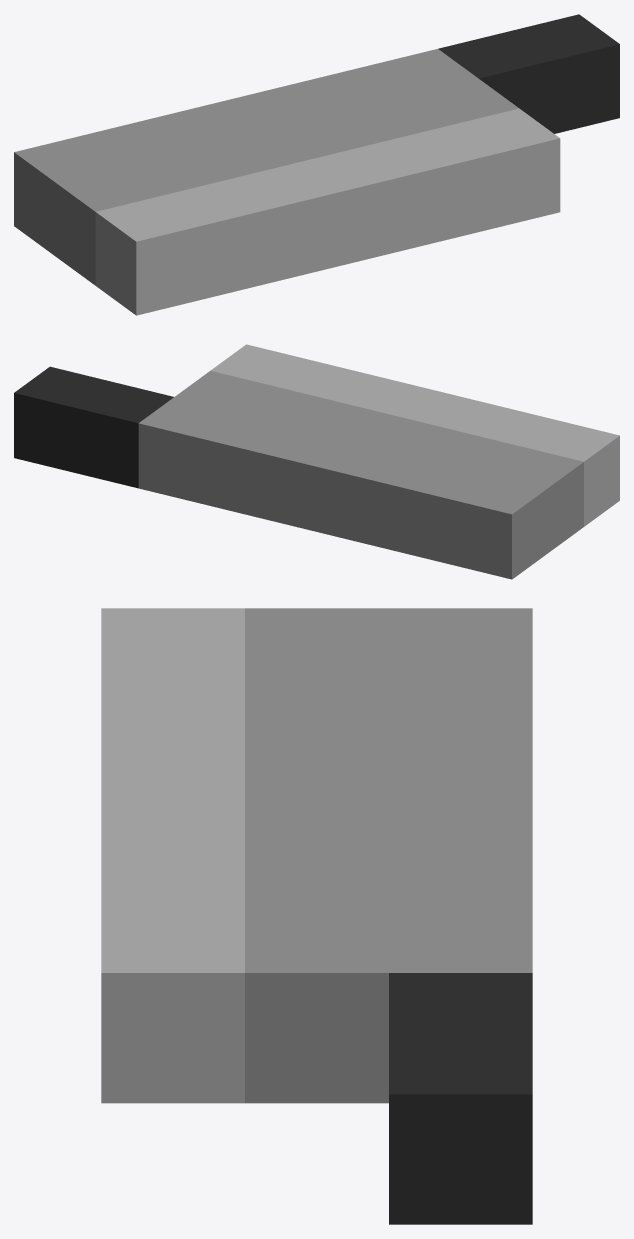
Rendered from KnifeLarge.obj.
The picture shows the model from 3 angles, top to bottom: view 1: azimuth 30°, elevation 25°; view 2: azimuth 150°, elevation 25°; view 3: azimuth 270°, elevation 25°; orthographic projection. The views are drawn at different scales.
Visible parts, largest first — view 1: KnifeLarge; view 2: KnifeLarge; view 3: KnifeLarge.
Boxes of the visible parts, x1,y1,x2,y2 form: KnifeLarge: (14, 14, 619, 315); KnifeLarge: (14, 344, 619, 579); KnifeLarge: (101, 608, 532, 1224).
Bounding box in the file's own units: 8 × 1 × 3.
1 material, 1 textured.
